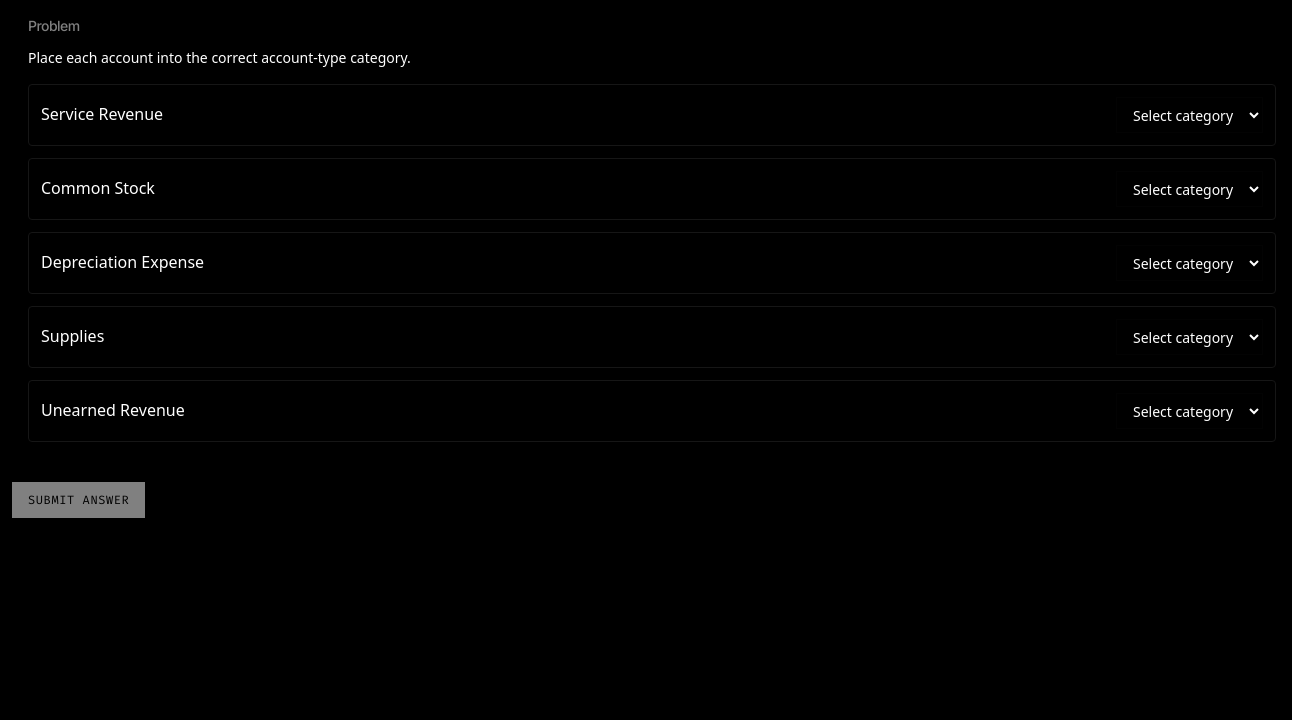
ClassificationInput › submits incorrect answers and shows per-item results
Select "Assets" in the dropdown in the row of "Service Revenue" at (1190, 115), box [1116,97,1263,133]
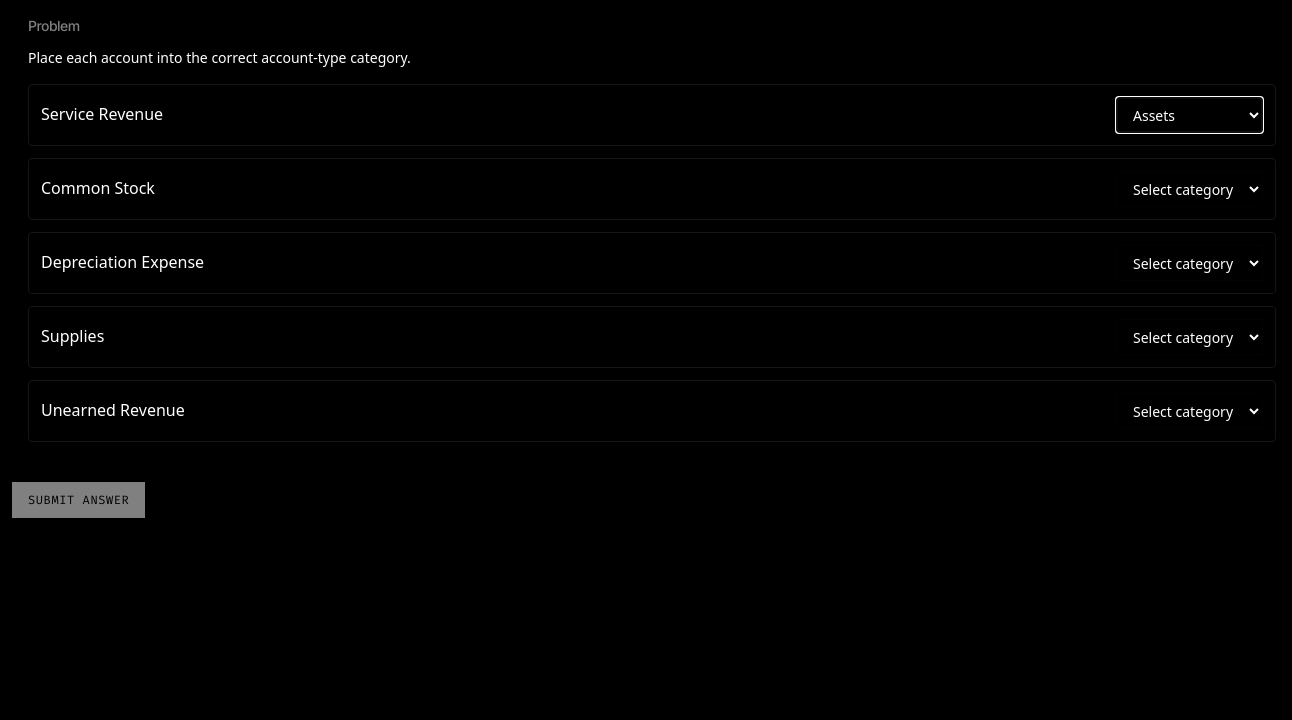
Select "Assets" in the dropdown in the row of "Common Stock" at (1190, 189), box [1116,171,1263,207]
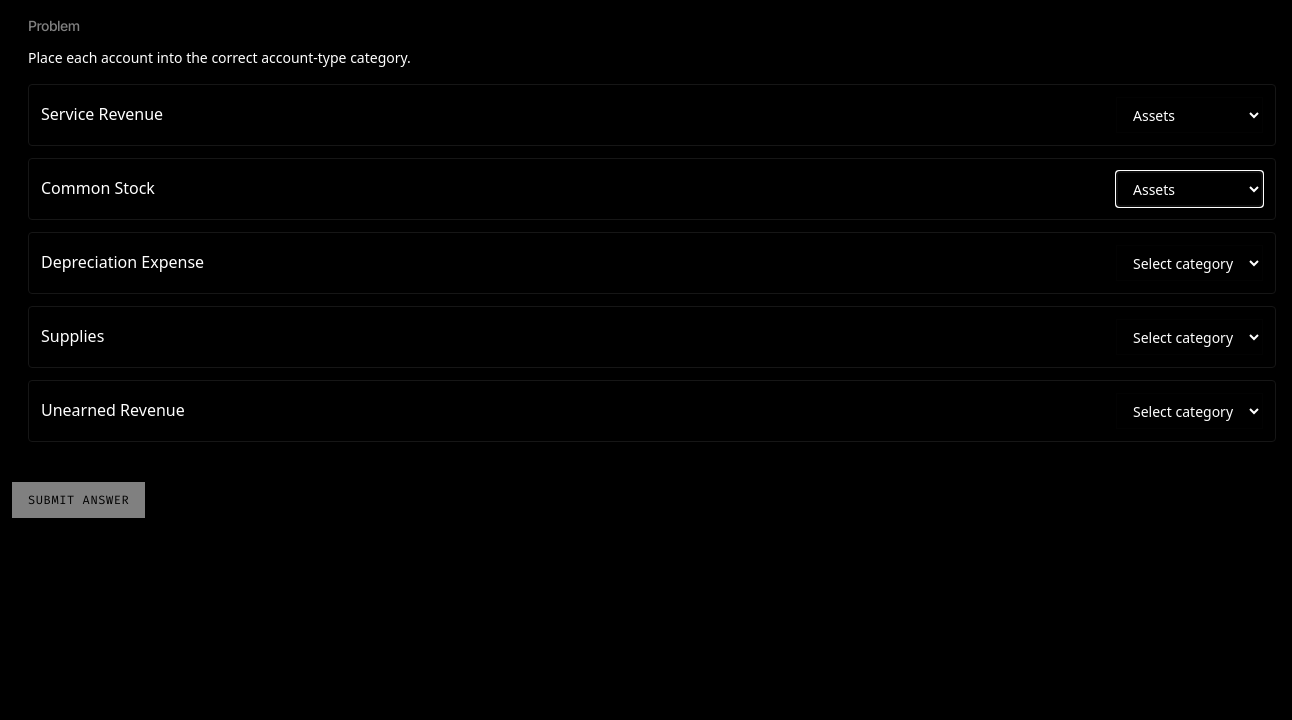
Select "Assets" in the dropdown in the row of "Depreciation Expense" at (1190, 263), box [1116,245,1263,281]
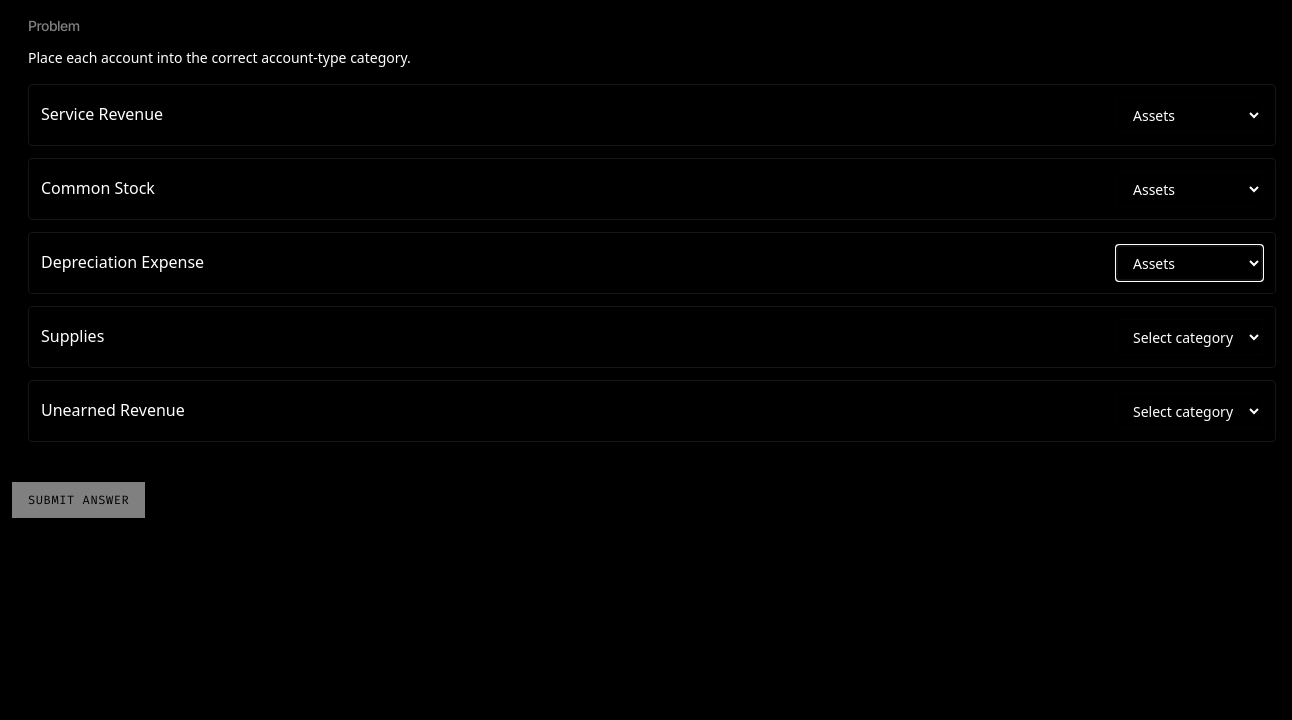
Select "Liabilities" in the dropdown in the row of "Supplies" at (1190, 337), box [1116,319,1263,355]
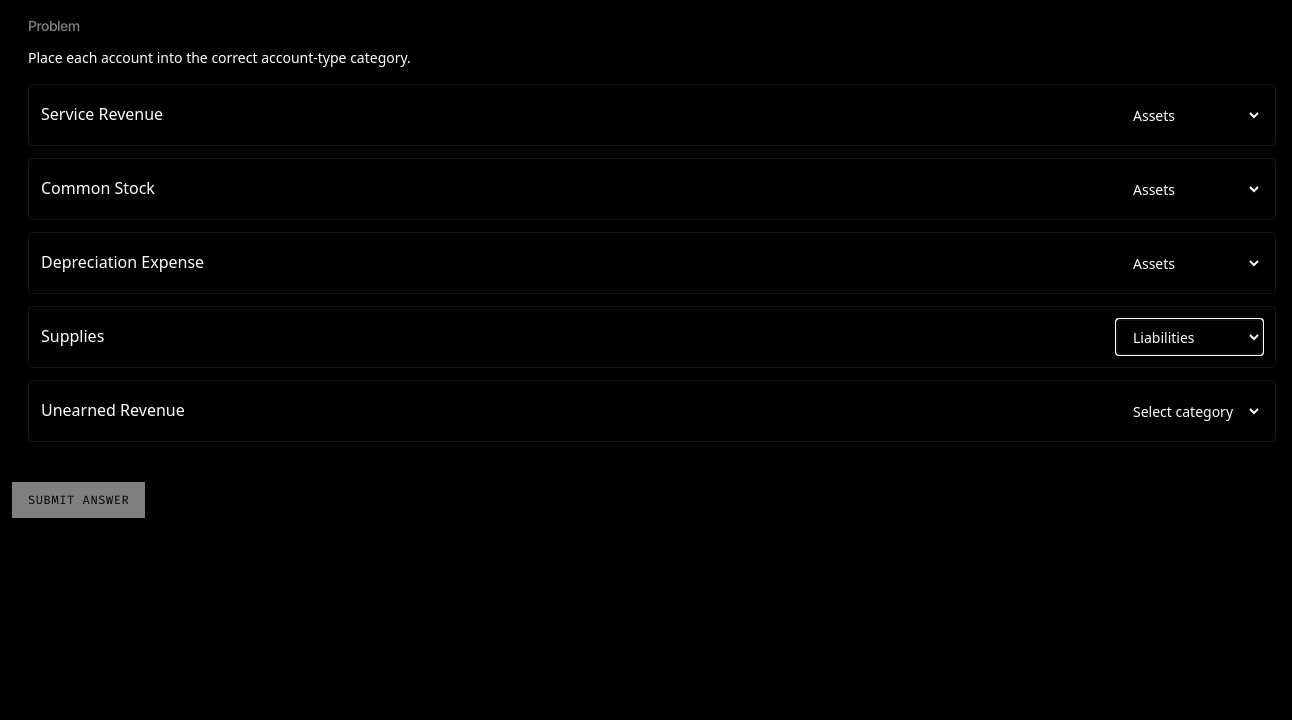
Select "Assets" in the dropdown in the row of "Unearned Revenue" at (1190, 411), box [1116,393,1263,429]
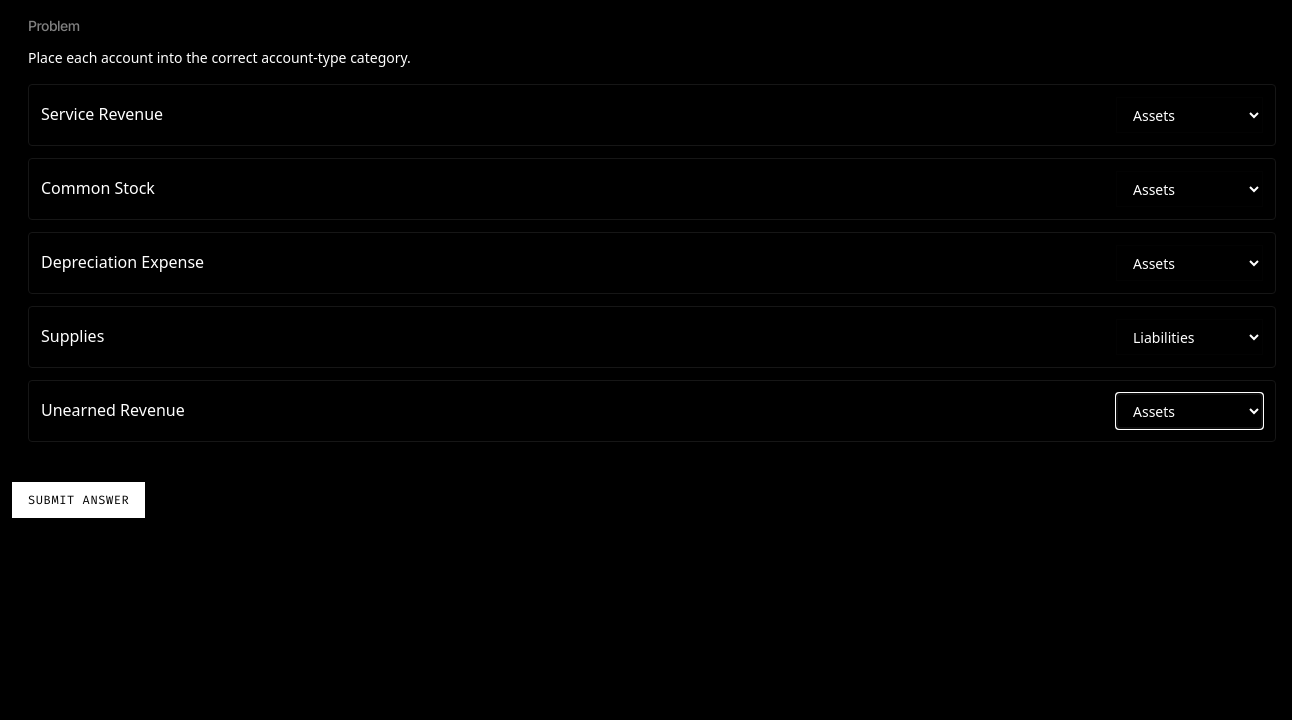
Click the button "Submit Answer" at (79, 500), box [12,482,145,518]
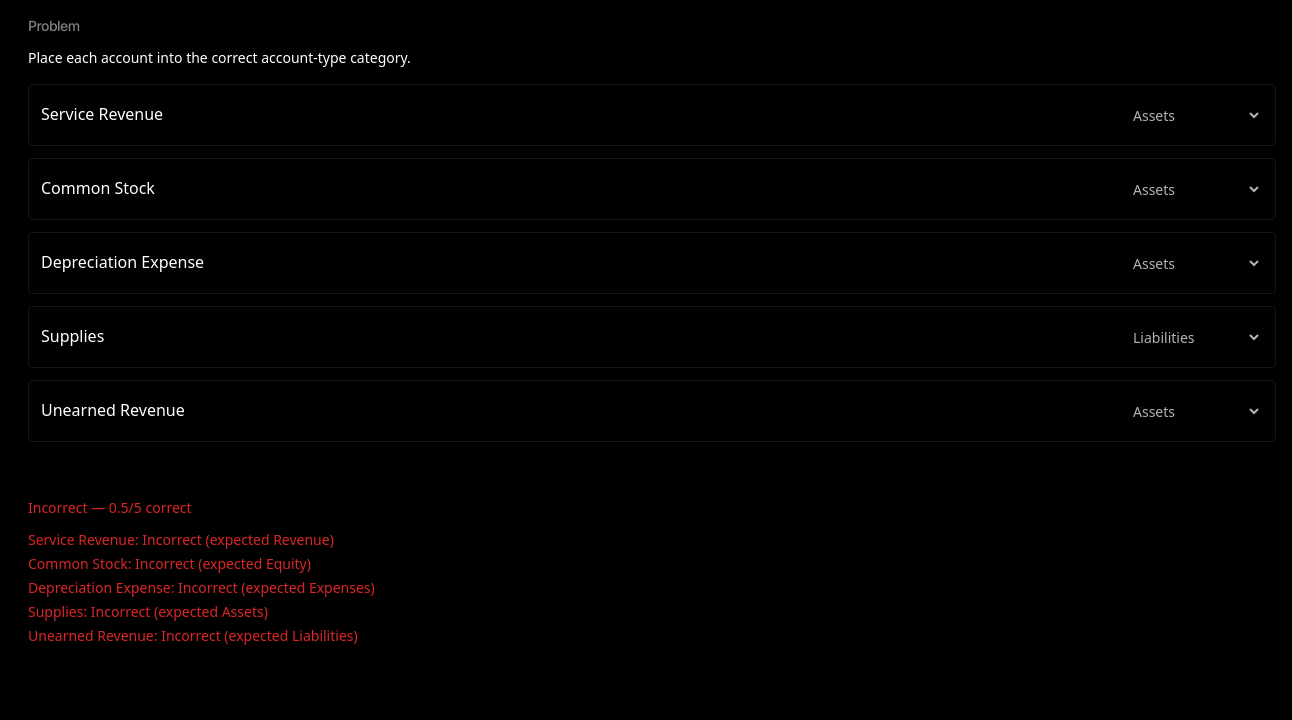
Check: the text "Incorrect — 0.5/5 correct" is shown, box [28,498,192,517]
